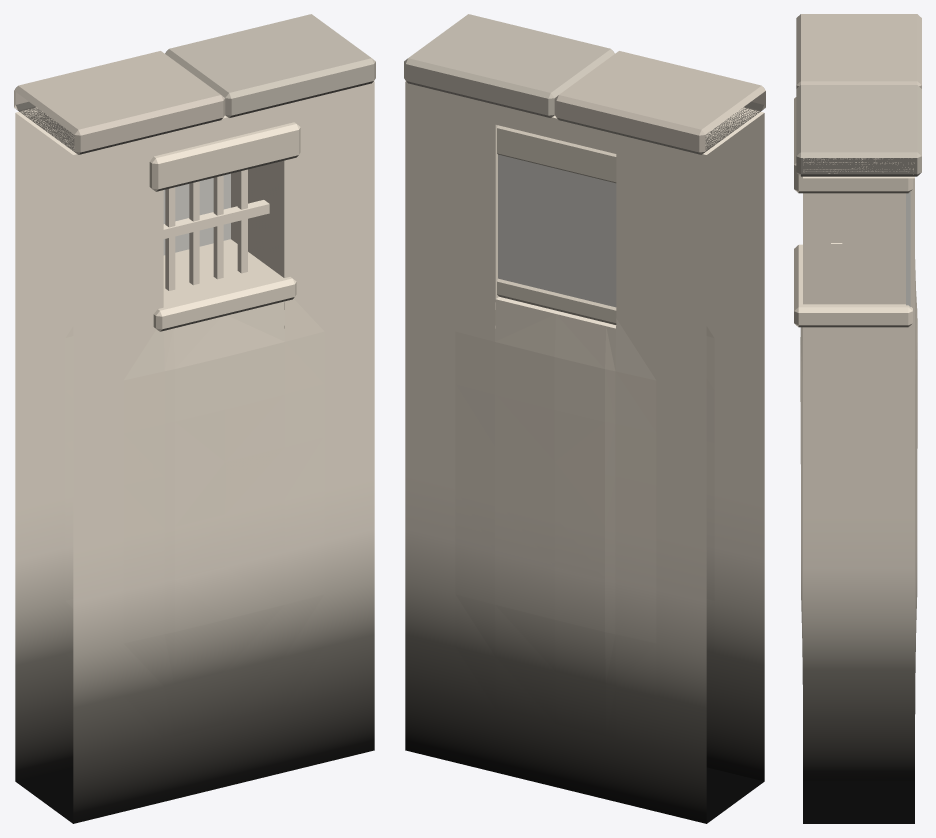
Rendered from SM_VKI_Wall_Dungeon_Window_150_Full.fbx.
3 views of the same model, side by side, from view 1: azimuth 30°, elevation 25°; view 2: azimuth 150°, elevation 25°; view 3: azimuth 270°, elevation 25° (orthographic). The views are drawn at different scales.
Parts seen in each view (by area): view 1: SM_VKI_Wall_Dungeon_Window_150_Full.001; view 2: SM_VKI_Wall_Dungeon_Window_150_Full.001; view 3: SM_VKI_Wall_Dungeon_Window_150_Full.001.
Part boxes in pixels (left/top/right/bottom): SM_VKI_Wall_Dungeon_Window_150_Full.001: left=14, top=14, right=375, bottom=823; SM_VKI_Wall_Dungeon_Window_150_Full.001: left=404, top=14, right=765, bottom=823; SM_VKI_Wall_Dungeon_Window_150_Full.001: left=794, top=14, right=921, bottom=823.
Size of the model in its own units: 1.5 by 3.3 by 0.57.
